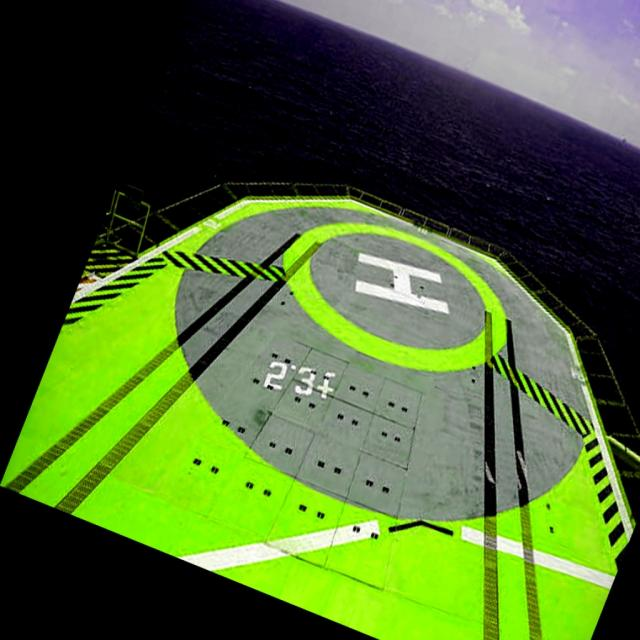helipad: (279, 216, 513, 374)
